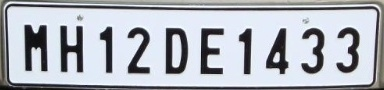character: (58, 23, 85, 74), (22, 23, 49, 73), (125, 26, 152, 76), (199, 26, 225, 77), (264, 26, 290, 77), (163, 26, 189, 76), (335, 25, 361, 74), (300, 26, 325, 75), (236, 25, 253, 76), (98, 25, 115, 74)
